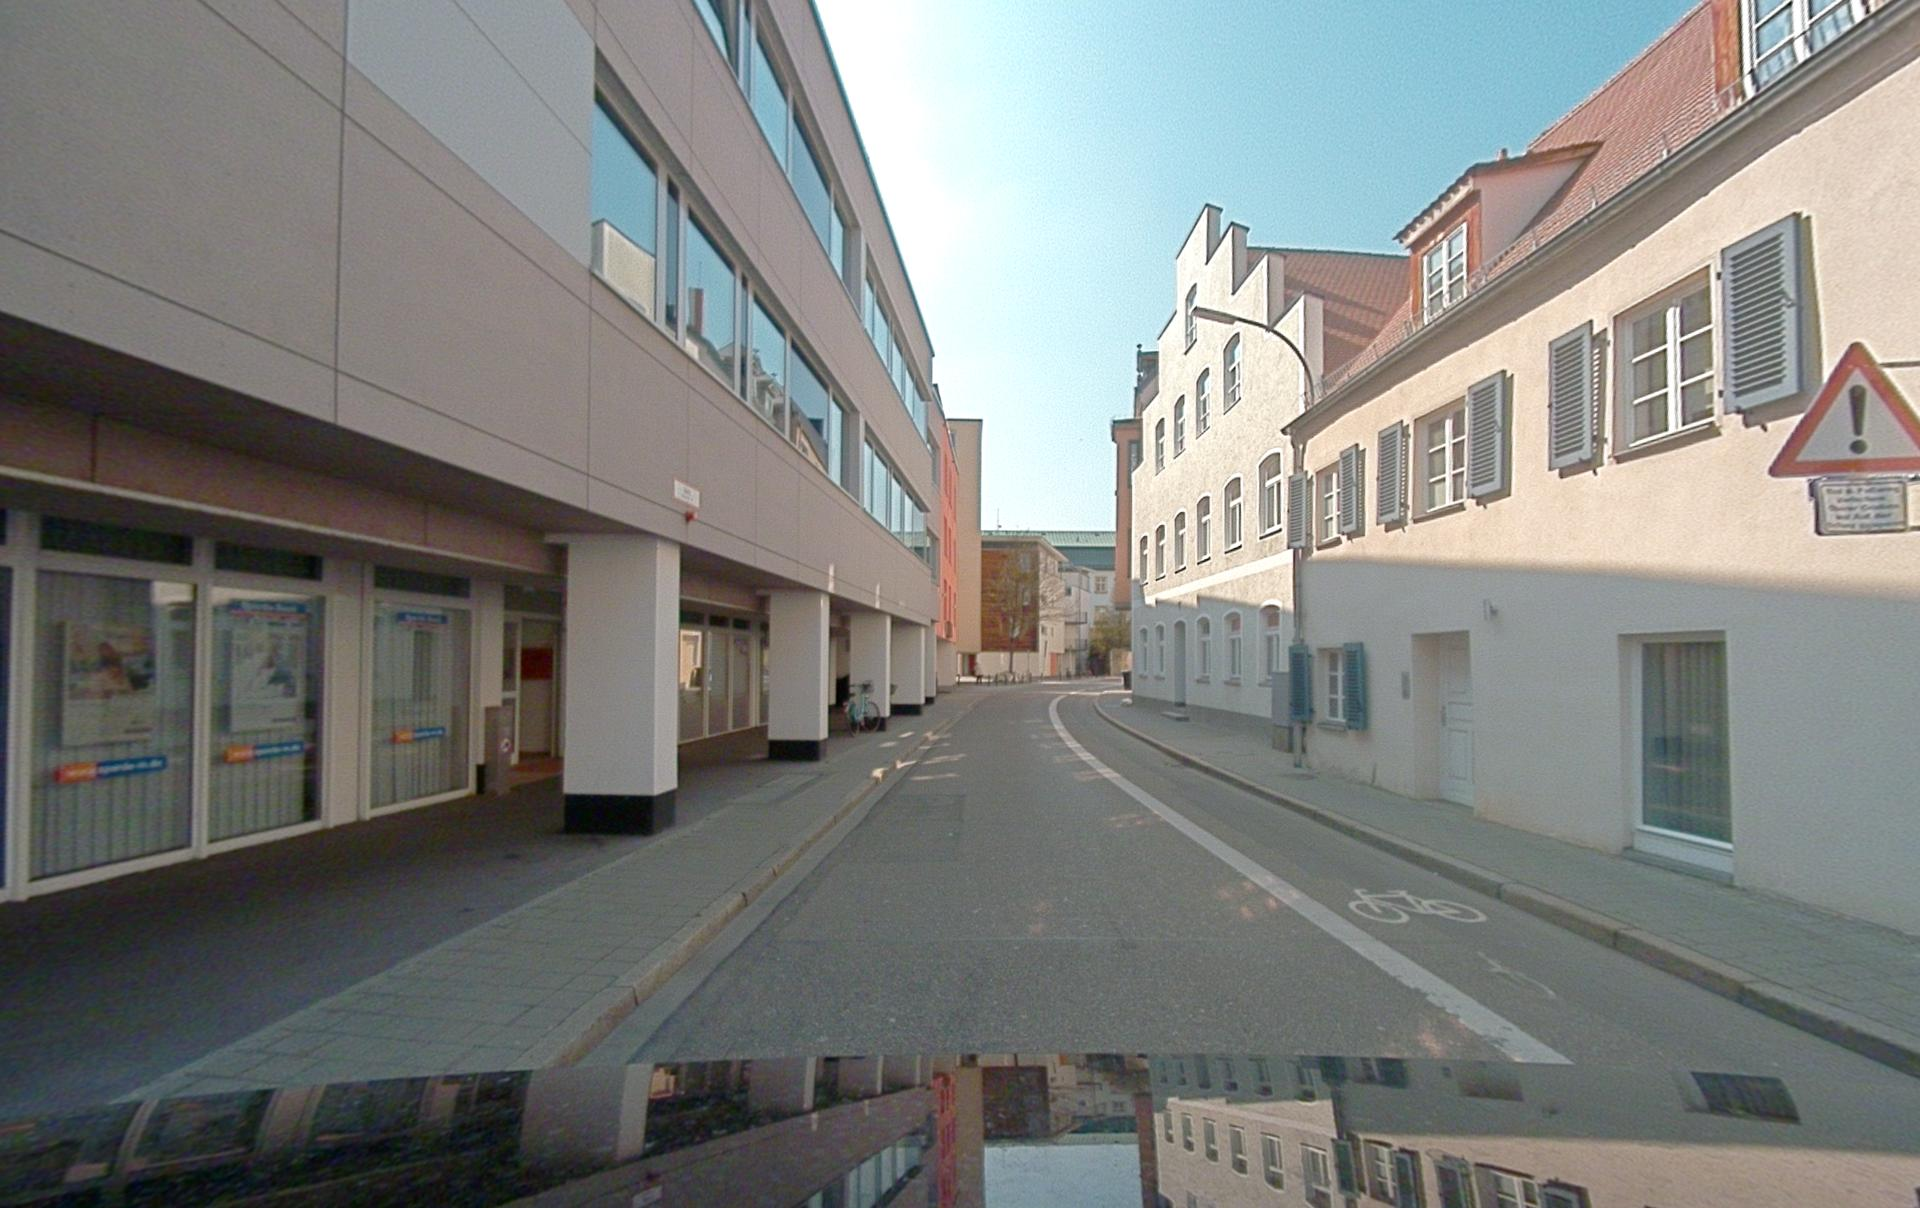traffic sign: (1811, 475, 1910, 536)
